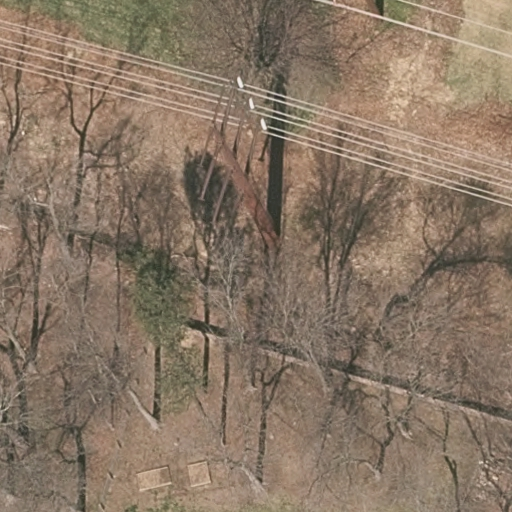TT: (188, 72, 287, 249)
